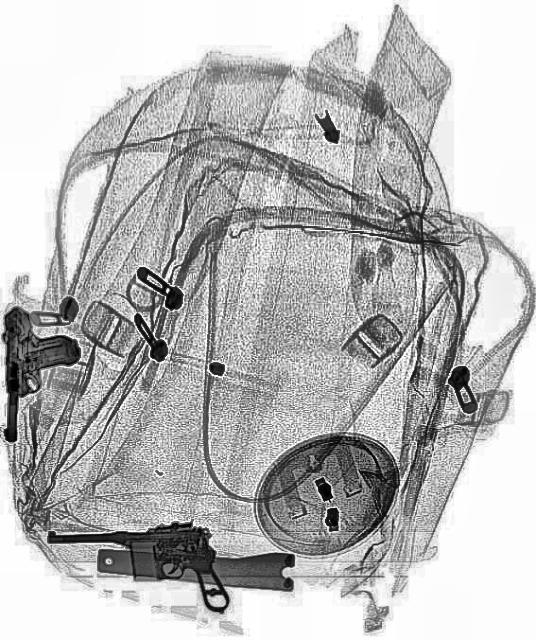Gun: (45, 523, 231, 615), (0, 304, 80, 442)
